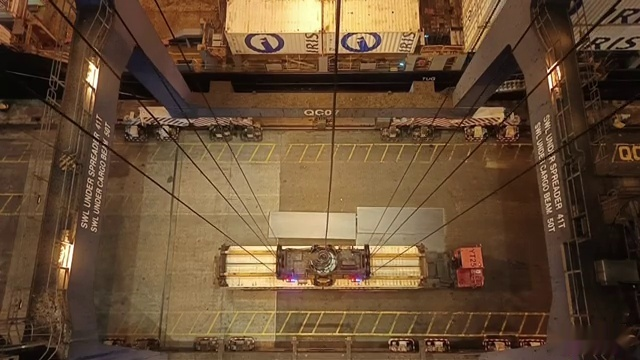container: (207, 236, 438, 291), (220, 0, 426, 59), (214, 0, 430, 29), (207, 1, 435, 28), (213, 0, 438, 23), (221, 4, 419, 27), (210, 0, 437, 16), (213, 0, 437, 15)
guide_mark: (65, 309, 551, 333), (111, 144, 539, 164)
spreader: (211, 239, 436, 290)
target_slot: (214, 235, 431, 291)
